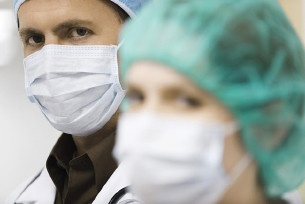Mask: (14, 17, 132, 135)
